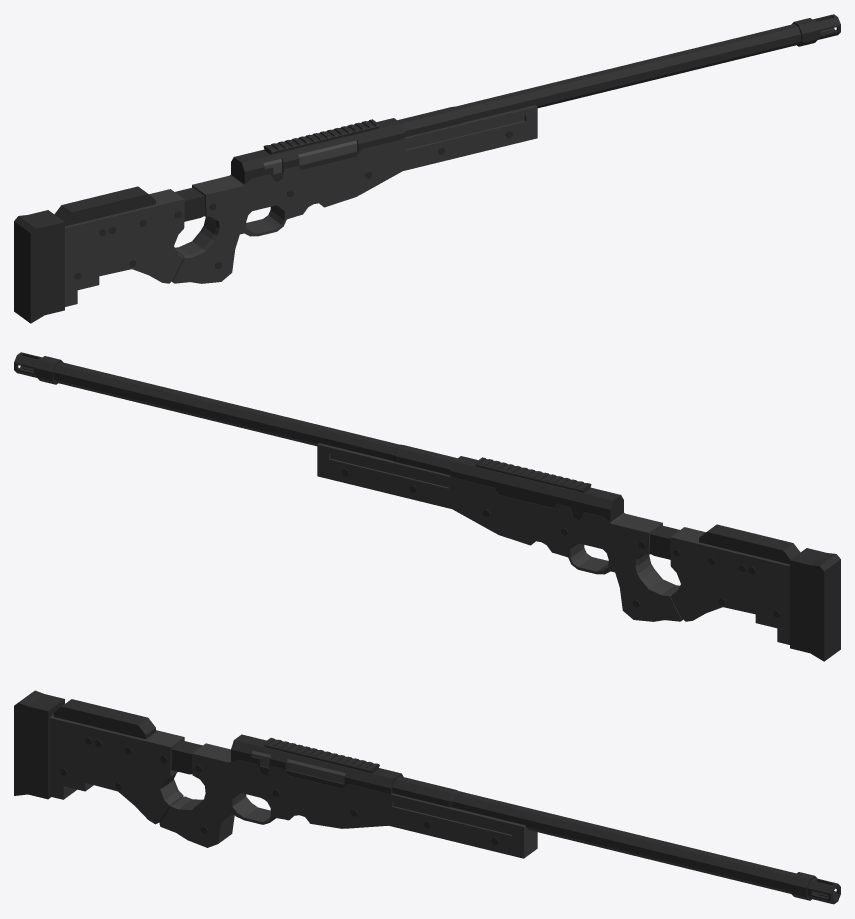
Rendered from SniperRifle1_01.fbx.
3 views of the same model, one above another, from view 1: azimuth 30°, elevation 25°; view 2: azimuth 150°, elevation 25°; view 3: azimuth 330°, elevation 25° (orthographic).
Visible parts, largest first — view 1: SniperRifle1_01; view 2: SniperRifle1_01; view 3: SniperRifle1_01.
Part boxes in pixels (bbox=[...]): SniperRifle1_01: bbox=[14, 14, 840, 323]; SniperRifle1_01: bbox=[14, 352, 840, 661]; SniperRifle1_01: bbox=[14, 690, 840, 904].
Size of the model in its own units: 1.39 by 0.1884 by 0.0495.
